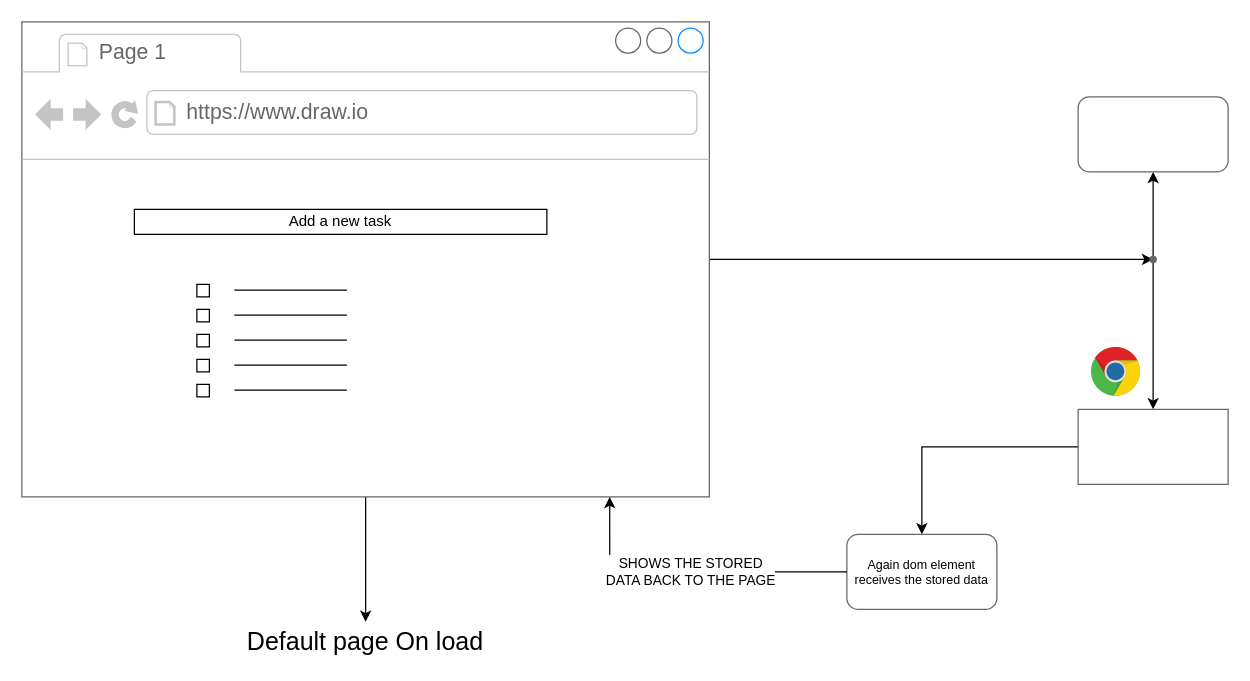
Image size: 1250x681. Some labels were removed from this diagram. Here are the shapes that lost their labels. From the top down, the box of each, then its label:
(1077, 96, 1228, 172): function() Add the user input to the HTML DOM
(1077, 408, 1228, 484): function() That stores the user input to the local storage in the browser
